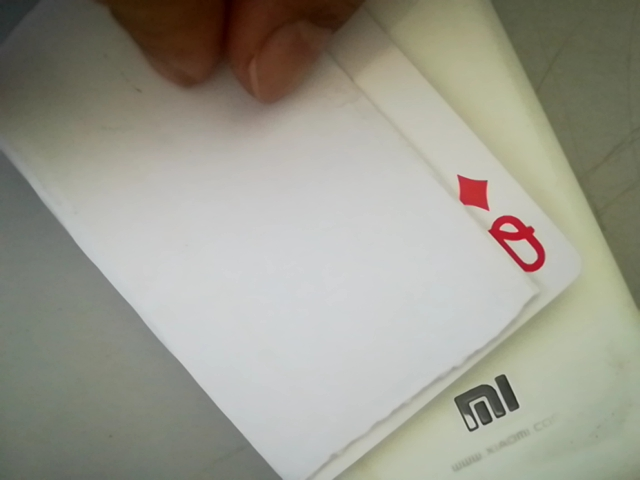fk q: (450, 170, 564, 278)
